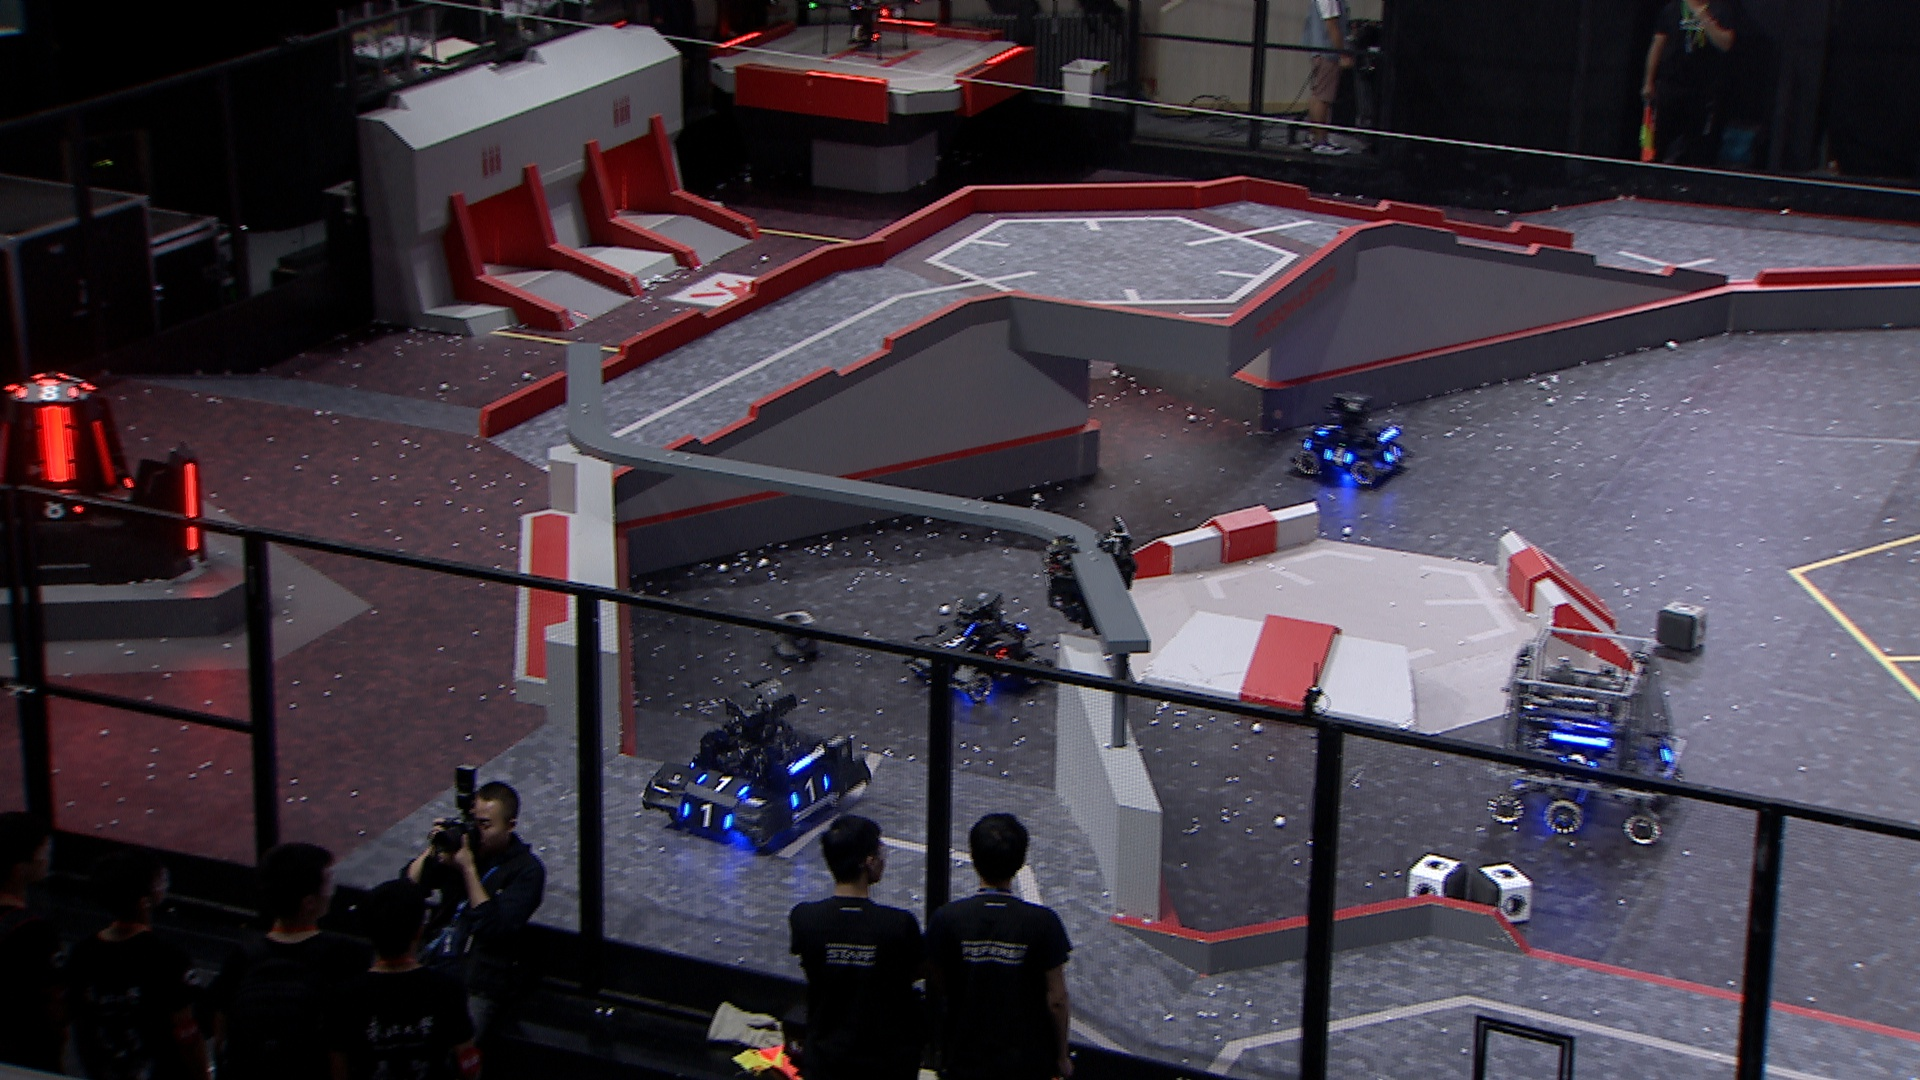armor: (36, 406, 80, 487), (90, 419, 123, 488), (24, 491, 84, 527), (182, 462, 204, 553), (679, 796, 736, 832), (694, 767, 750, 803), (785, 771, 833, 812), (11, 377, 82, 405), (1557, 752, 1600, 781), (935, 626, 975, 655), (1655, 735, 1685, 767), (1321, 443, 1356, 469), (1382, 442, 1404, 465), (1313, 418, 1340, 436)
car: (1486, 624, 1692, 847), (650, 673, 873, 849), (909, 588, 1048, 700), (1292, 386, 1408, 488)
watcher: (1043, 513, 1141, 640)
